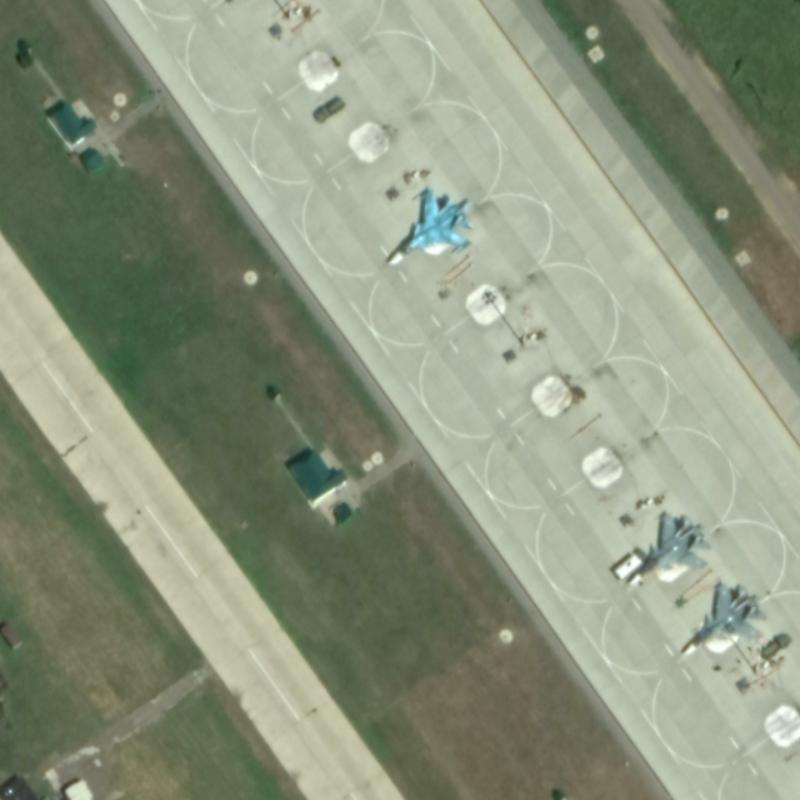A19: (384, 184, 475, 266), (624, 508, 712, 587), (680, 579, 766, 657)
